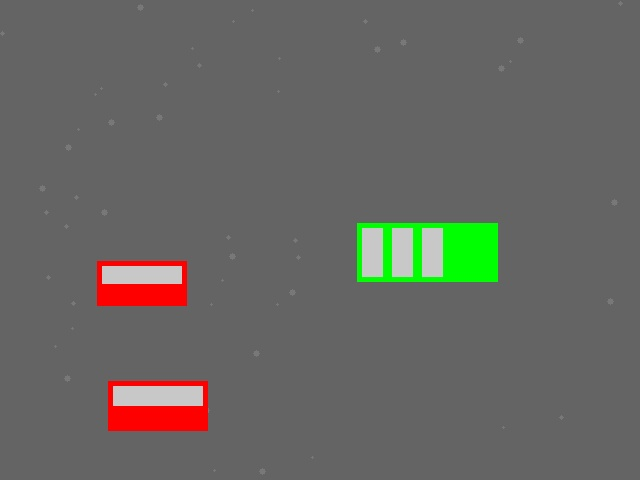bus: (357, 223, 497, 281)
car: (108, 381, 207, 430), (97, 261, 186, 305)
